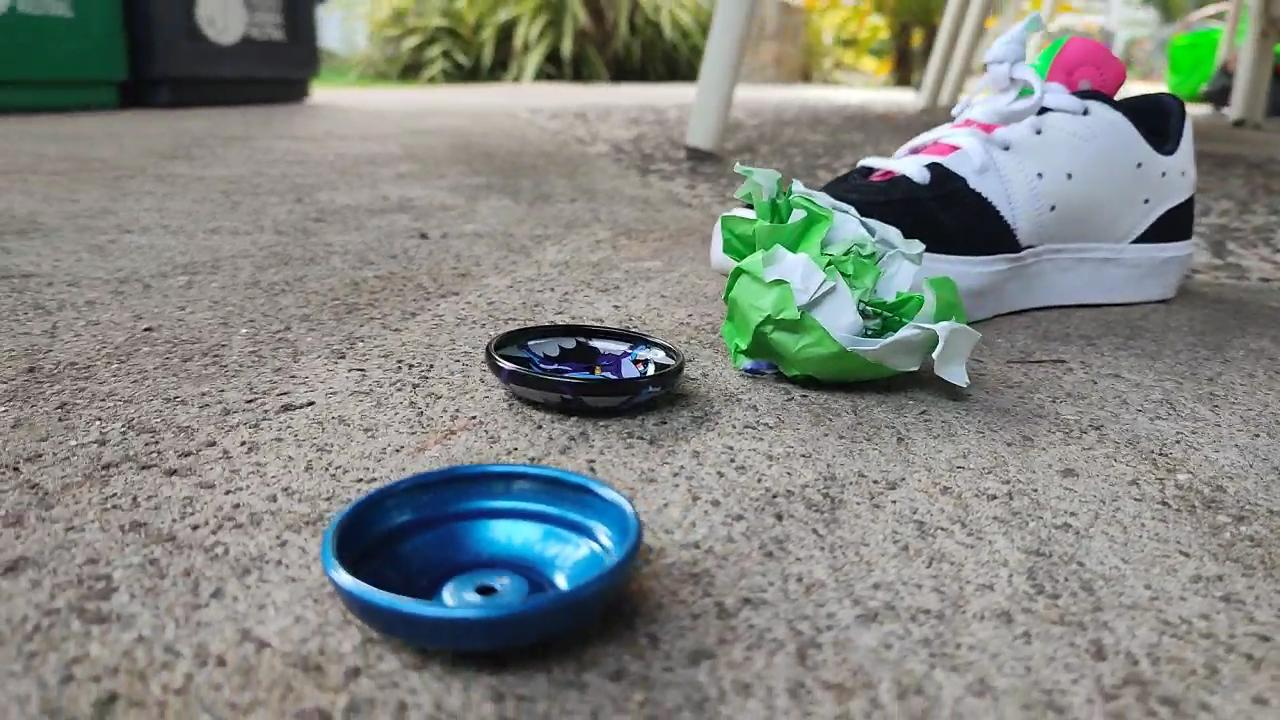Paper: (704, 159, 981, 399)
